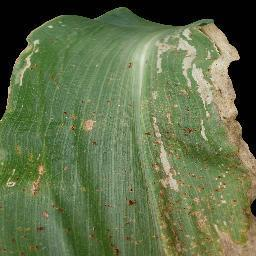Corn_Common_Rust: (142, 12, 256, 256), (4, 18, 43, 105), (0, 140, 46, 202), (89, 230, 141, 256), (60, 106, 100, 137), (121, 184, 139, 227), (0, 241, 47, 256), (38, 204, 65, 229), (3, 222, 33, 240), (46, 14, 65, 34), (99, 200, 119, 213), (88, 137, 101, 150), (125, 57, 135, 71)
